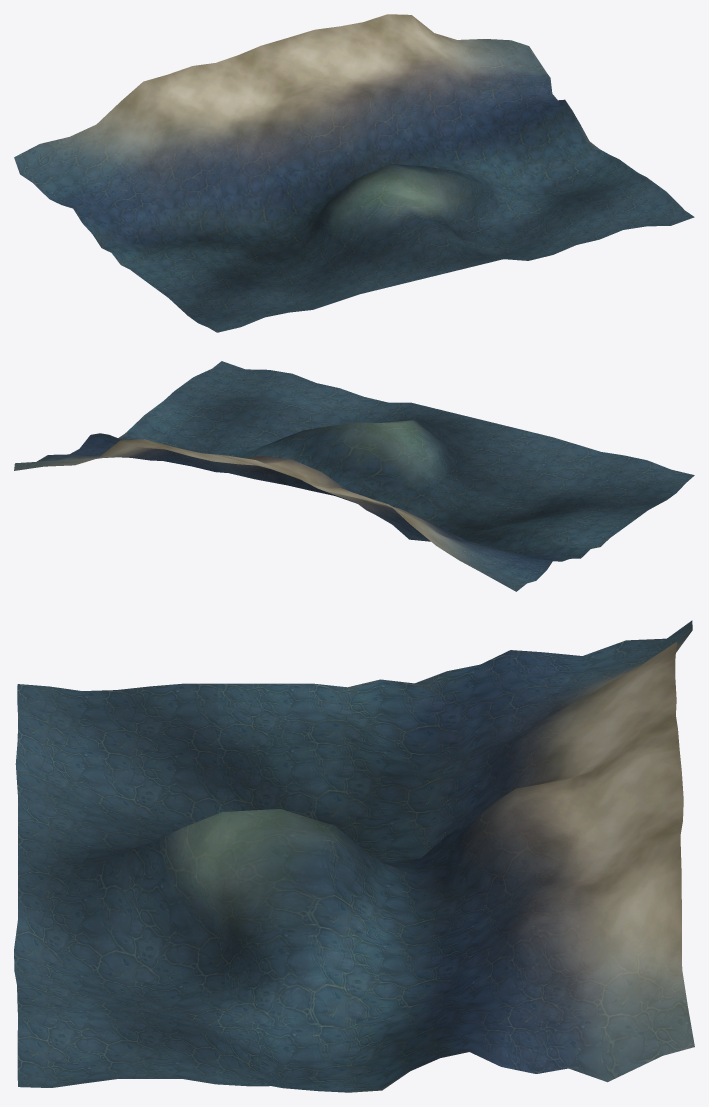
Rendered from dixing.fbx.
3 renders of one model, top to bottom at view 1: azimuth 30°, elevation 25°; view 2: azimuth 150°, elevation 25°; view 3: azimuth 270°, elevation 25°, orthographic. The views are drawn at different scales.
Visible parts, largest first — view 1: pPlane3; view 2: pPlane3; view 3: pPlane3.
Boxes of the visible parts, left/top/right/bottom form: pPlane3: left=14, top=14, right=694, bottom=332; pPlane3: left=14, top=361, right=694, bottom=591; pPlane3: left=14, top=620, right=694, bottom=1092.
Bounding box in the file's own units: 24501 × 5213 × 16498.
